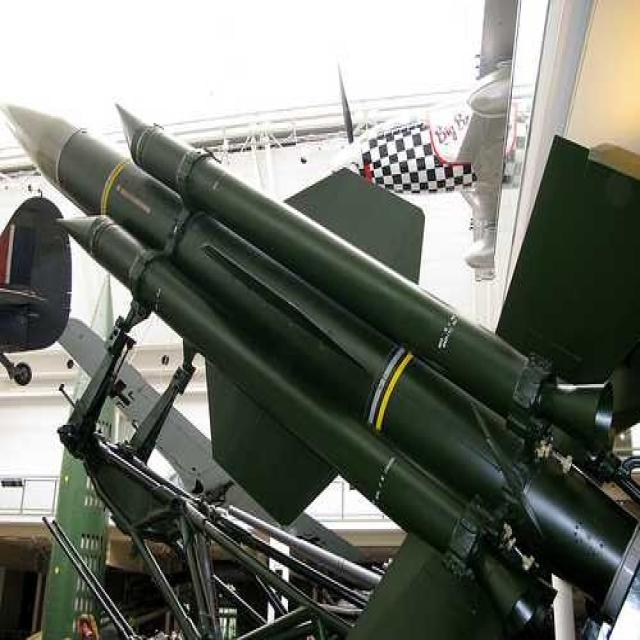missile: (7, 98, 637, 612)
